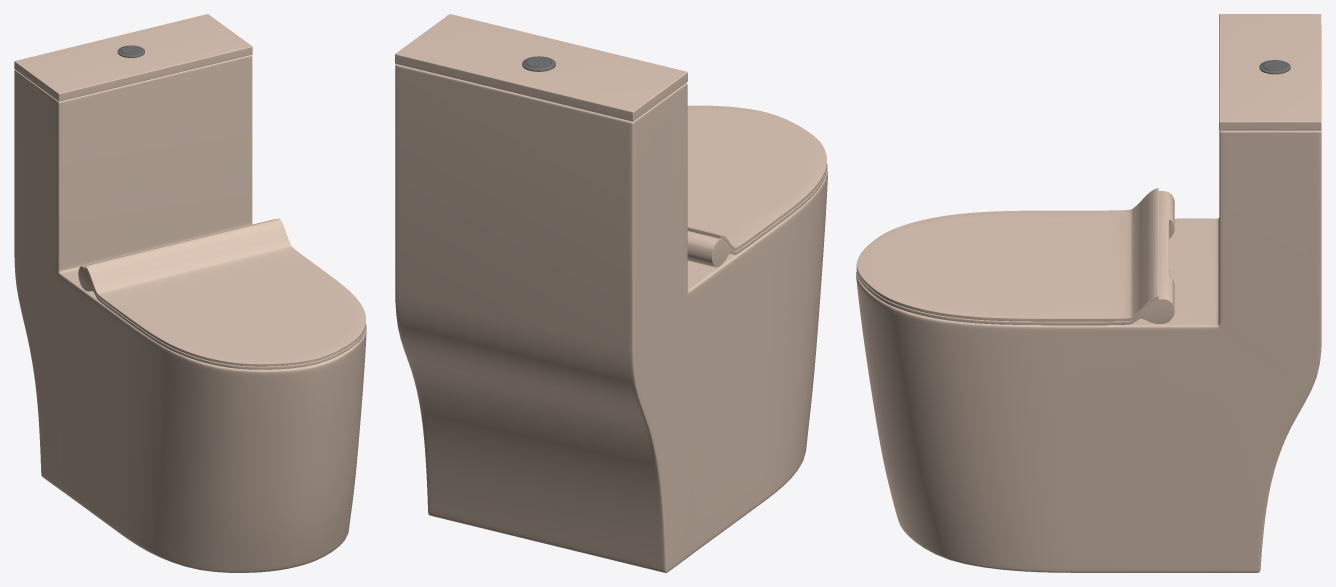
3 views of the same model, side by side, from view 1: azimuth 30°, elevation 25°; view 2: azimuth 150°, elevation 25°; view 3: azimuth 270°, elevation 25° (orthographic). The views are drawn at different scales.
Visible parts, largest first — view 1: Plane041, Rectangle047, Rectangle048, Rectangle046; view 2: Plane041, Rectangle048, Rectangle047, Rectangle046; view 3: Plane041, Rectangle047, Rectangle048, Rectangle046.
Boxes of the visible parts, box(x1,y1,x2,y2) form: Plane041: box(14, 54, 366, 572); Rectangle047: box(85, 218, 365, 366); Rectangle048: box(14, 14, 252, 101); Rectangle046: box(78, 219, 365, 369); Plane041: box(395, 64, 827, 572); Rectangle048: box(395, 14, 687, 121); Rectangle047: box(687, 105, 826, 250); Rectangle046: box(687, 167, 826, 267); Plane041: box(856, 25, 1321, 572); Rectangle047: box(856, 188, 1158, 321); Rectangle048: box(1219, 14, 1321, 130); Rectangle046: box(856, 191, 1174, 325).
Bounding box in the file's own units: 0.3757 × 0.7344 × 0.6827.
